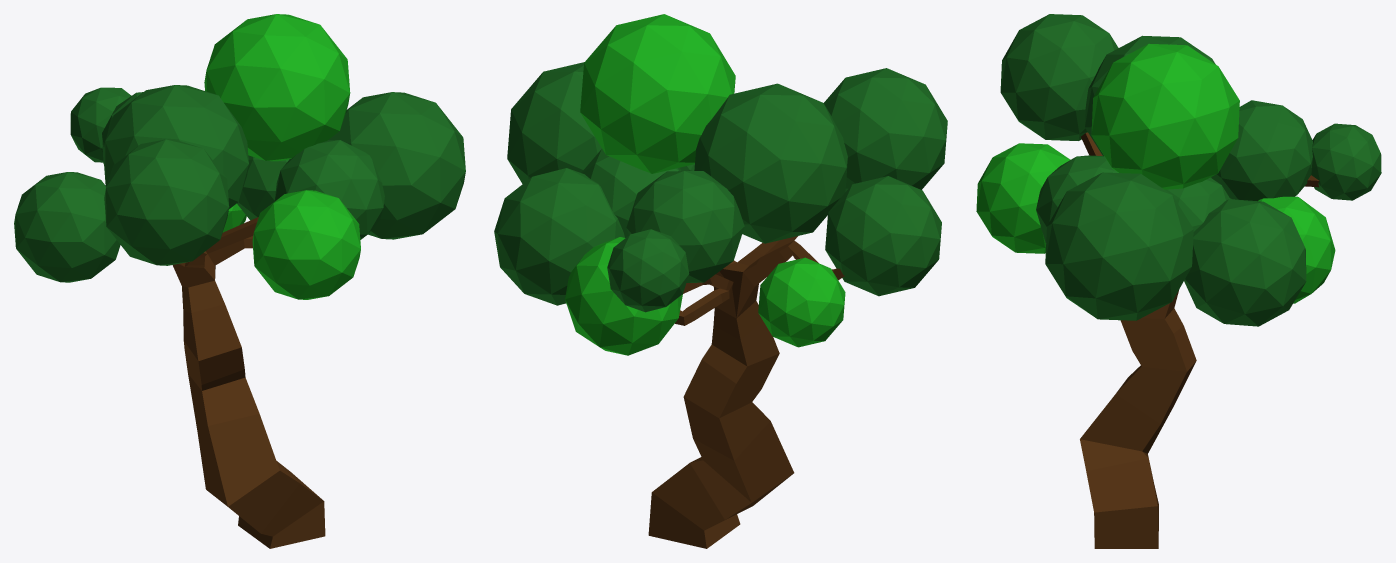
Rendered from tree.fbx.
The picture shows the model from 3 angles, left to right: view 1: azimuth 30°, elevation 25°; view 2: azimuth 150°, elevation 25°; view 3: azimuth 270°, elevation 25°; orthographic projection. The views are drawn at different scales.
Parts seen in each view (by area): view 1: Icosphere.012, Cube; view 2: Icosphere.012, Cube; view 3: Icosphere.012, Cube.
Boxes of the visible parts, x1,y1,x2,y2 form: Icosphere.012: (14,14,465,299); Cube: (172,217,325,548); Icosphere.012: (494,14,947,355); Cube: (648,236,844,548); Icosphere.012: (976,14,1381,326); Cube: (1080,132,1319,548).
Size of the model in its own units: 1100 by 1243 by 925.
